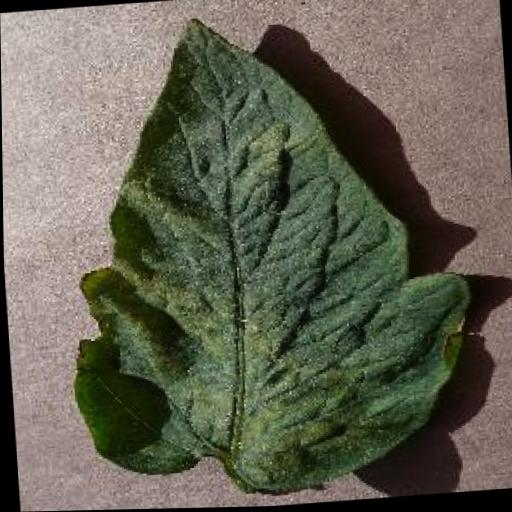Spider Mites: (49, 0, 477, 508)
